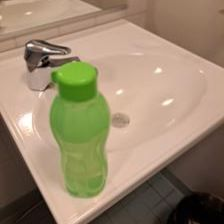bottle: (50, 58, 113, 199)
